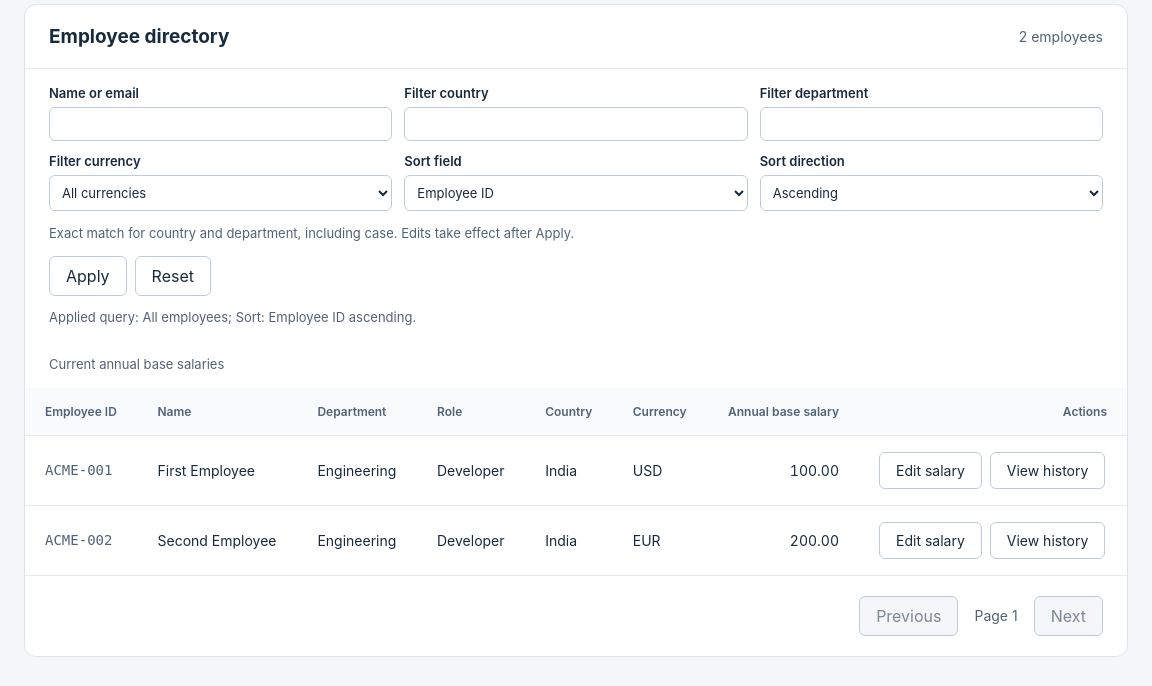
it: confirmed matching save reloads history from page 1; history failure=false
(page scrolled)
Step 1. Click the button with aria-label "View history for ACME-001" → {"x": 1048, "y": 470}, box [990,452,1105,489]
(page scrolled)
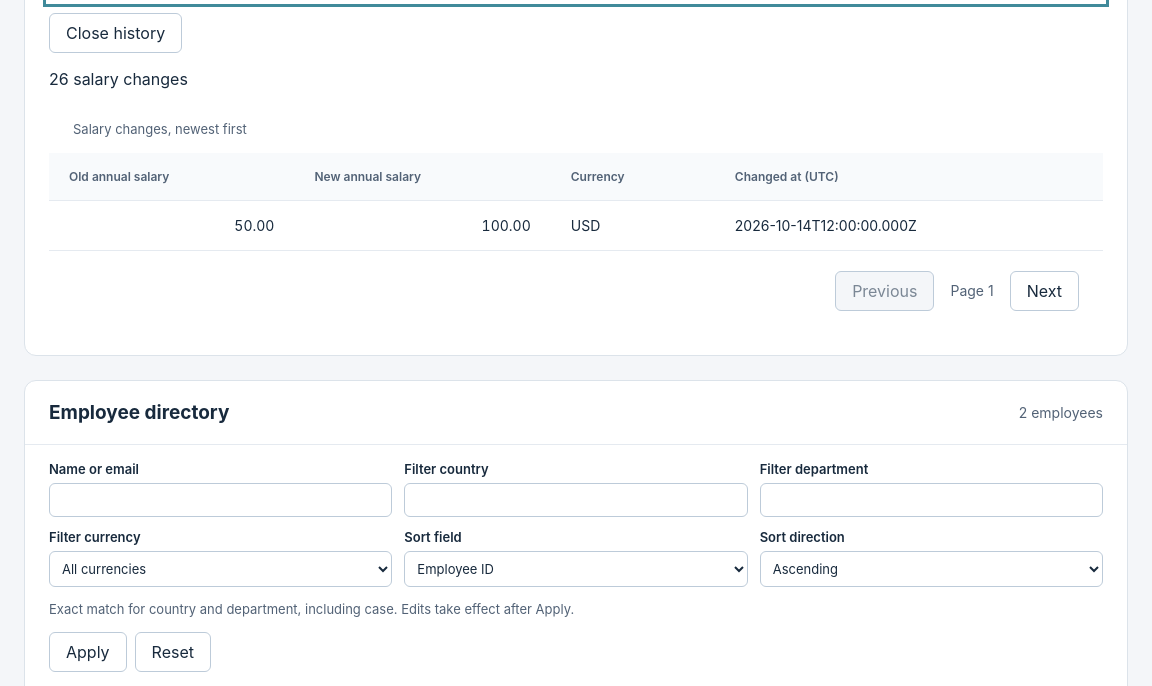
Step 2. Click the button "Next" → {"x": 1044, "y": 291}, box [1010,271,1079,311]
(page scrolled)
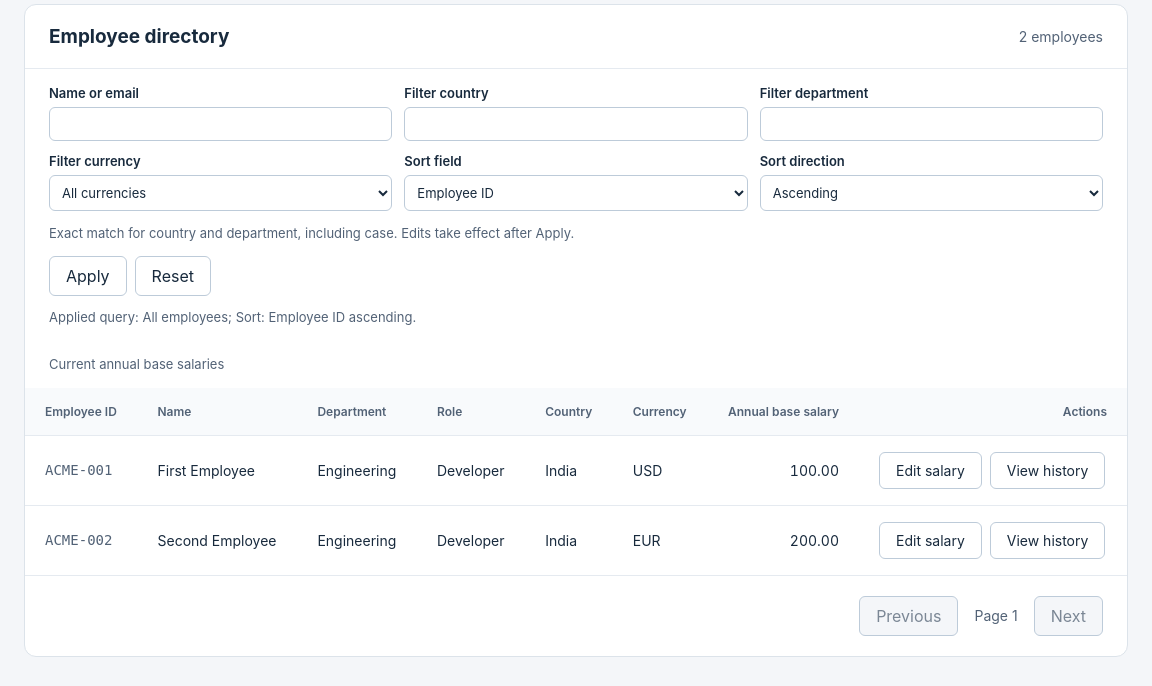
Step 3. Click the button with aria-label "Edit salary for ACME-001" → {"x": 930, "y": 470}, box [879,452,982,489]
(page scrolled)
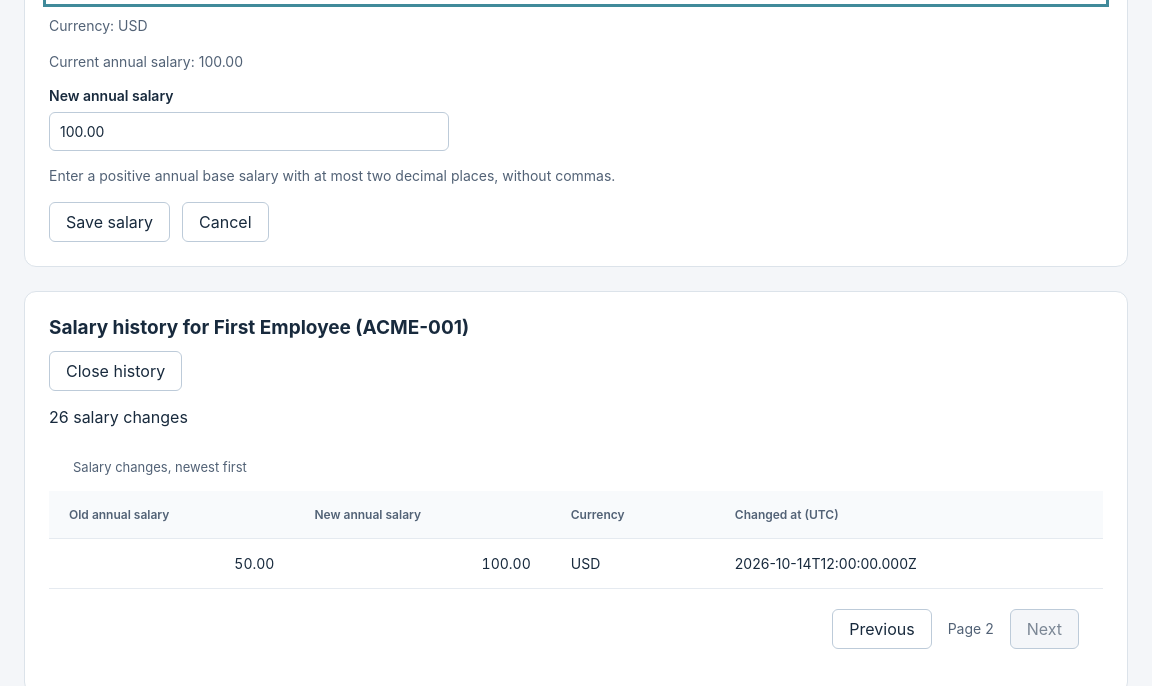
Step 4. Replace the text in the field labelled "New annual salary" with "300.00" → {"x": 249, "y": 132}, box [49,112,449,151]
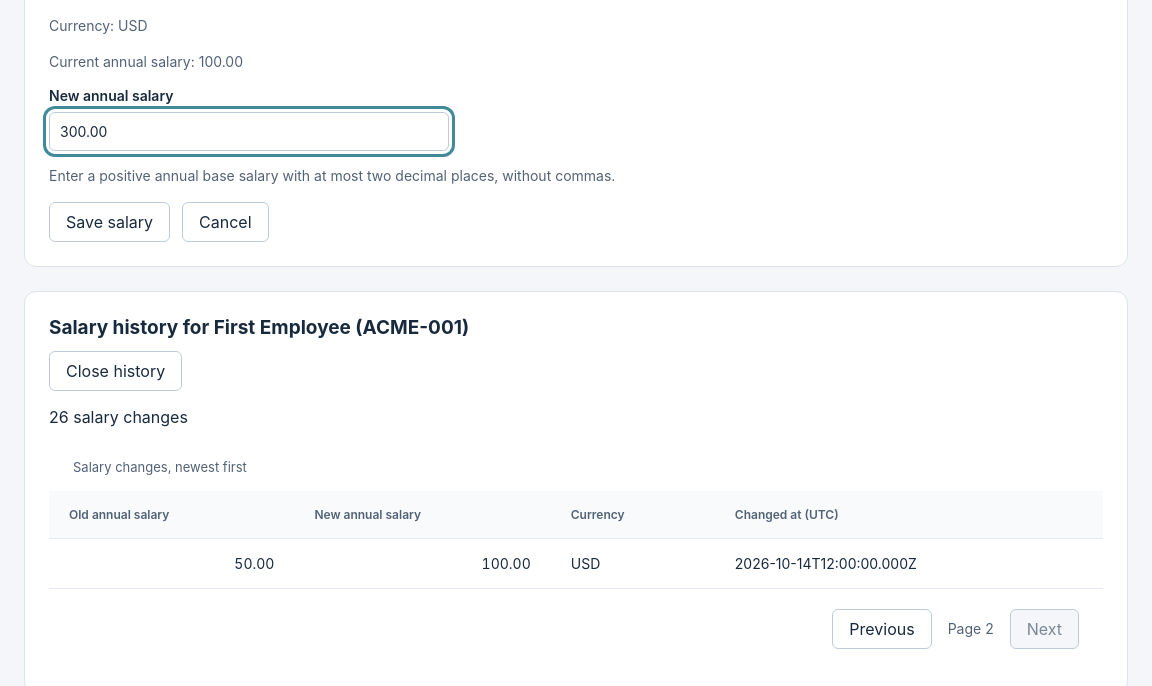
Step 5. Click the button "Save salary" → {"x": 110, "y": 222}, box [49,202,170,242]
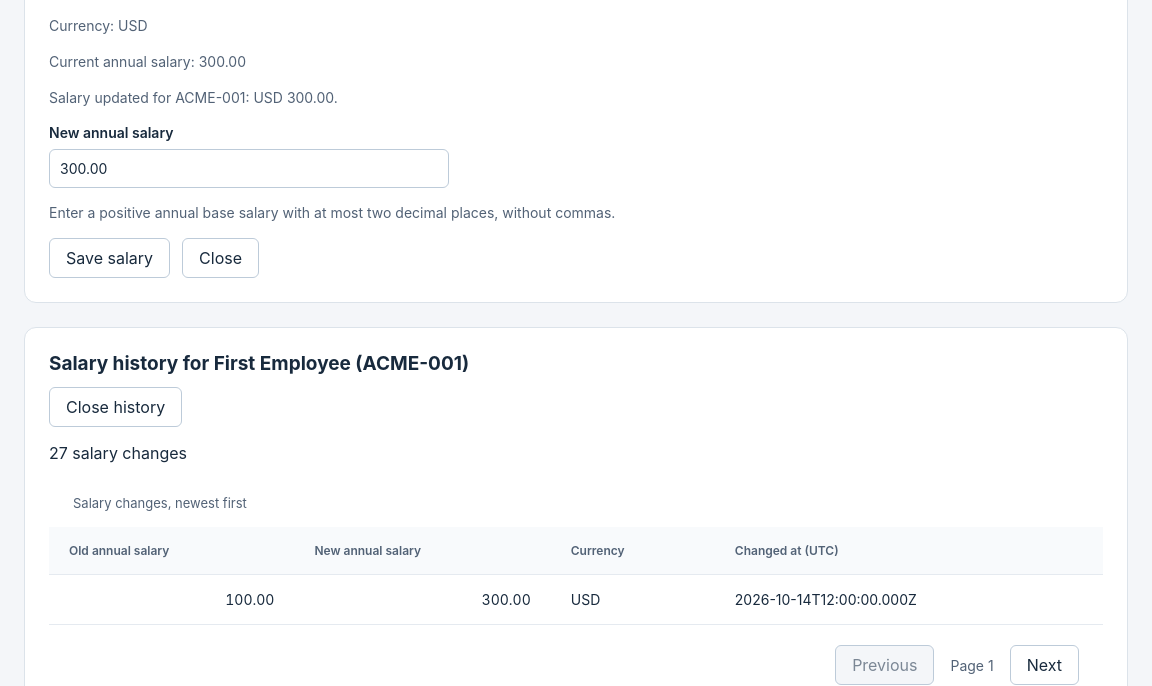
Expected: the text "Salary updated for ACME-001: USD 300.00." is shown, [49,89,338,106]
